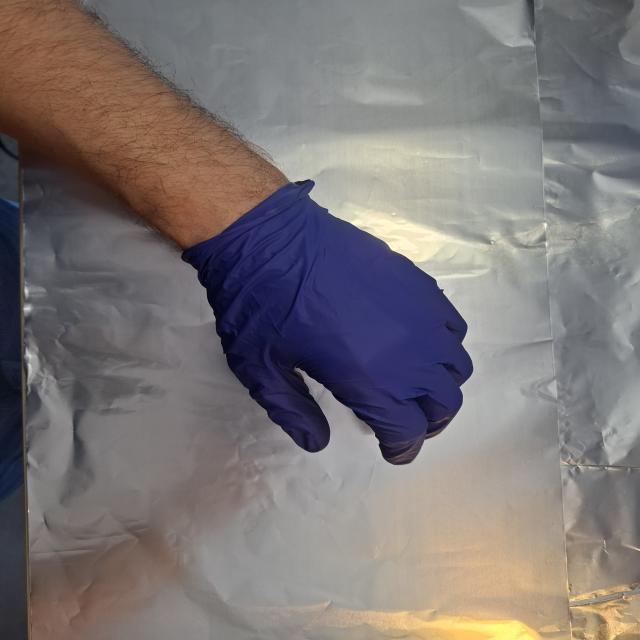glove_on: (198, 181, 480, 468)
